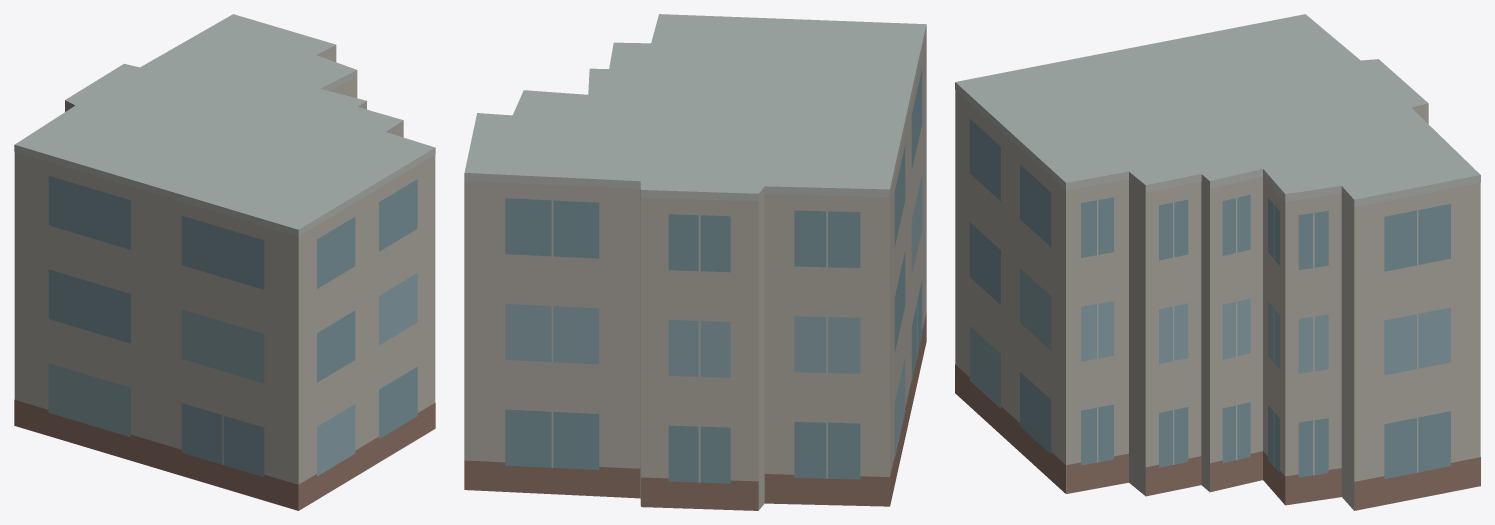
File: survey-upis-33025965.glb
3 renders of one model, left to right at view 1: azimuth 30°, elevation 25°; view 2: azimuth 150°, elevation 25°; view 3: azimuth 270°, elevation 25°, orthographic. The views are drawn at different scales.
Parts seen in each view (by area): view 1: survey-upis-33025965.tmp; view 2: survey-upis-33025965.tmp; view 3: survey-upis-33025965.tmp.
Boxes of the visible parts, <box> form: survey-upis-33025965.tmp: <box>14,14,435,510</box>; survey-upis-33025965.tmp: <box>464,14,926,510</box>; survey-upis-33025965.tmp: <box>955,14,1480,510</box>.
Bounding box in the file's own units: 12.81 × 10 × 15.32.
